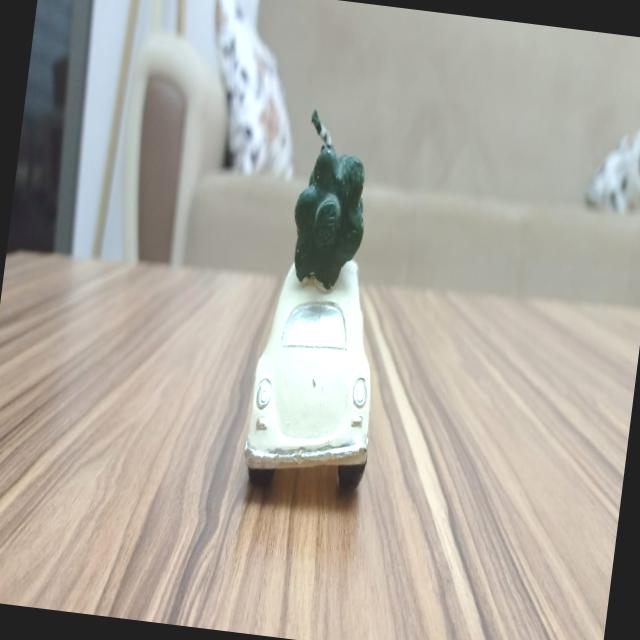car: (232, 254, 396, 488)
